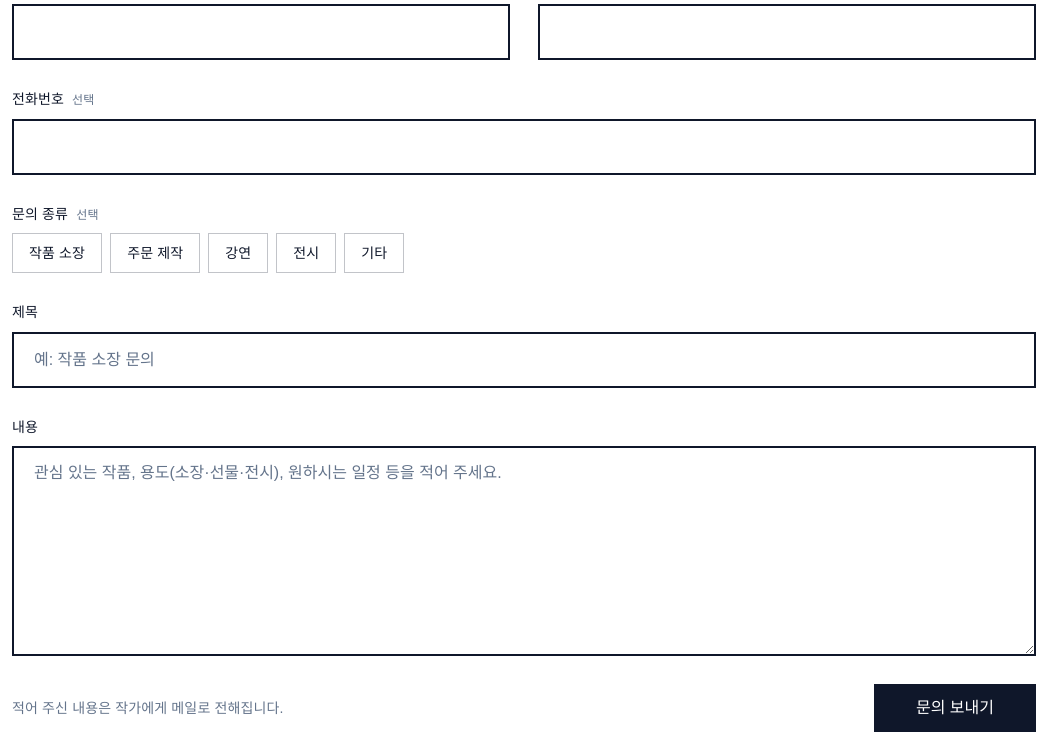
Test: ContactForm › 문의 종류를 고르면 제목 앞에 붙여 보낸다
This screenshot has width=1048, height=742.
Type "홍길동" into the field labelled "이름" at point(261, 32), box [12,4,510,60]
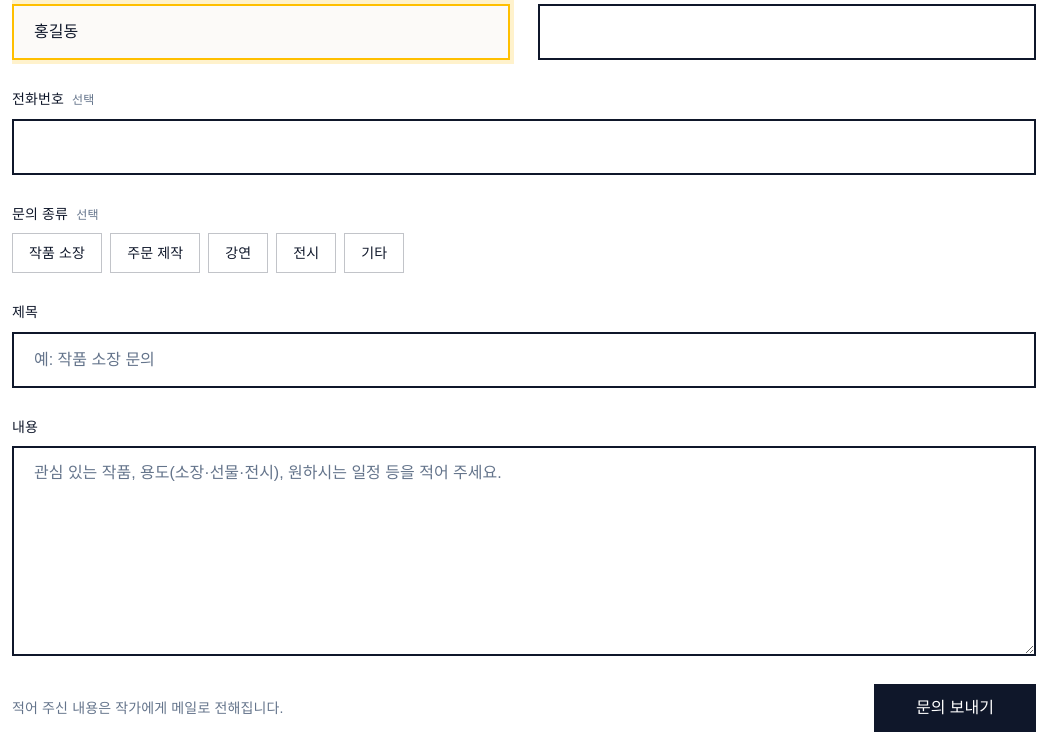
Type "v@example.com" into the field labelled "이메일 · 회신받으실 주소" at point(787, 32), box [538,4,1036,60]
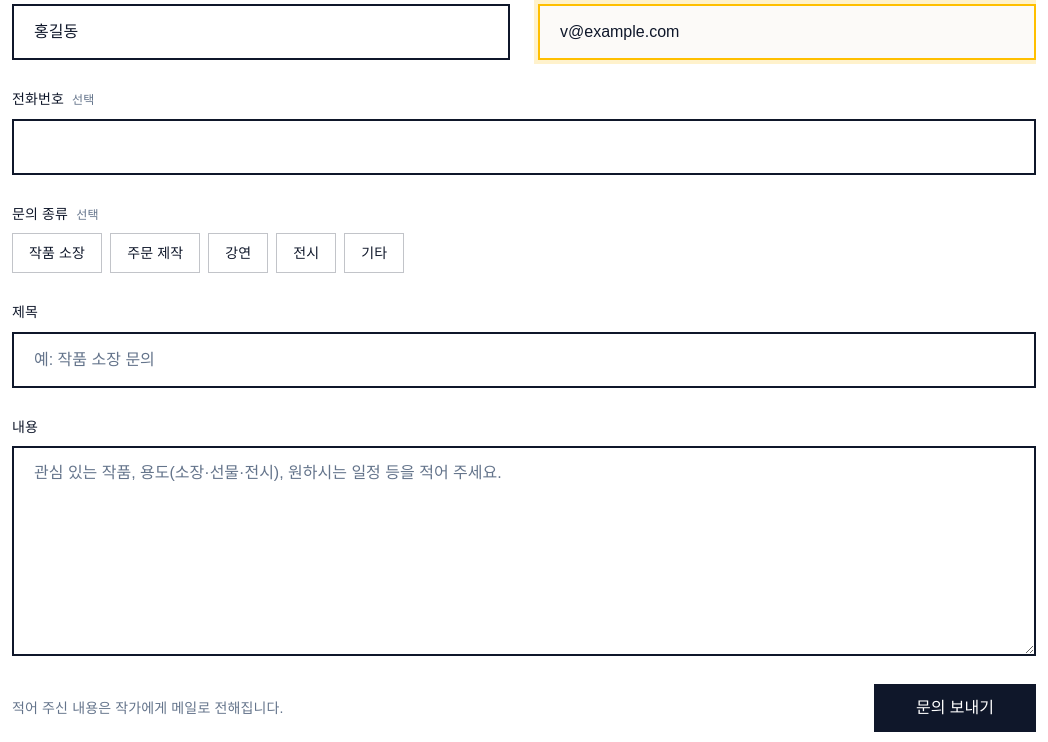
Type "작품 문의" into the field labelled "제목" at point(524, 360), box [12,332,1036,388]
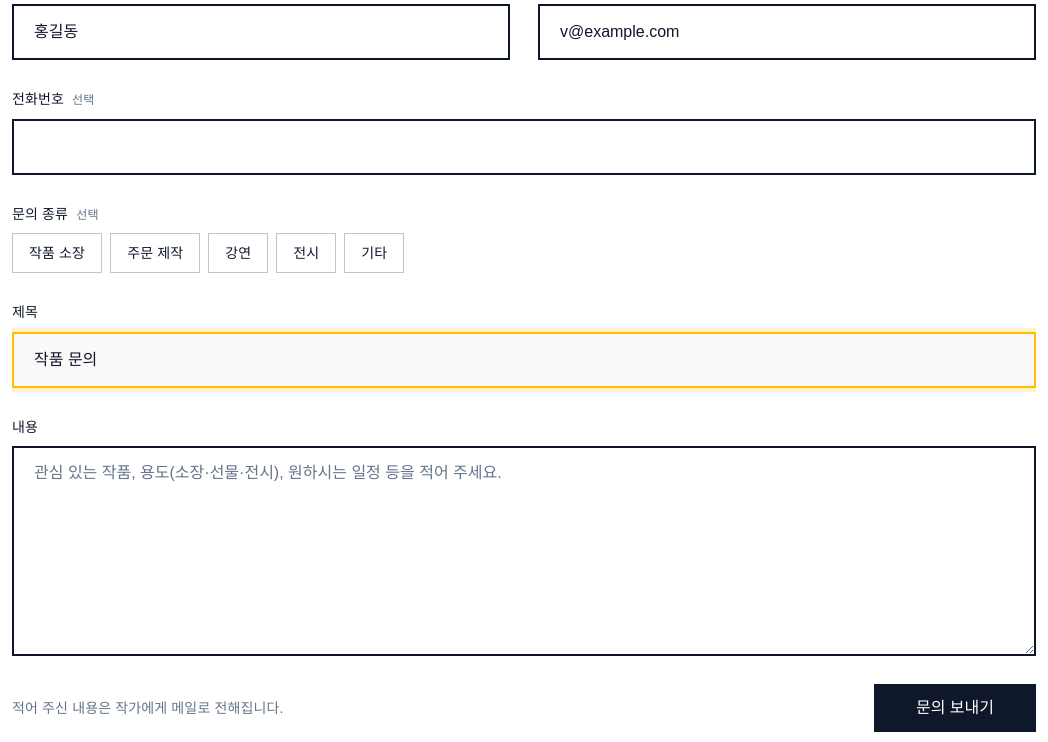
Type "소장 문의드립니다." into the text box labelled "내용" at point(524, 551), box [12,446,1036,656]
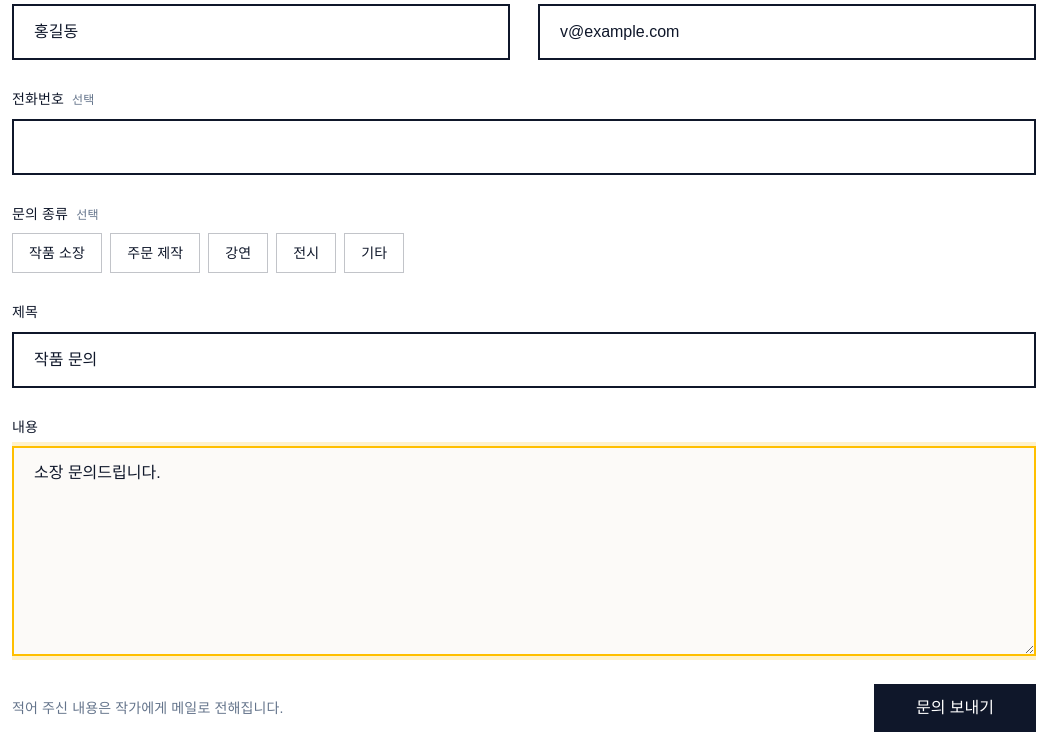
Click the radio button labelled "주문 제작" at point(155, 253), box [110,233,200,273]
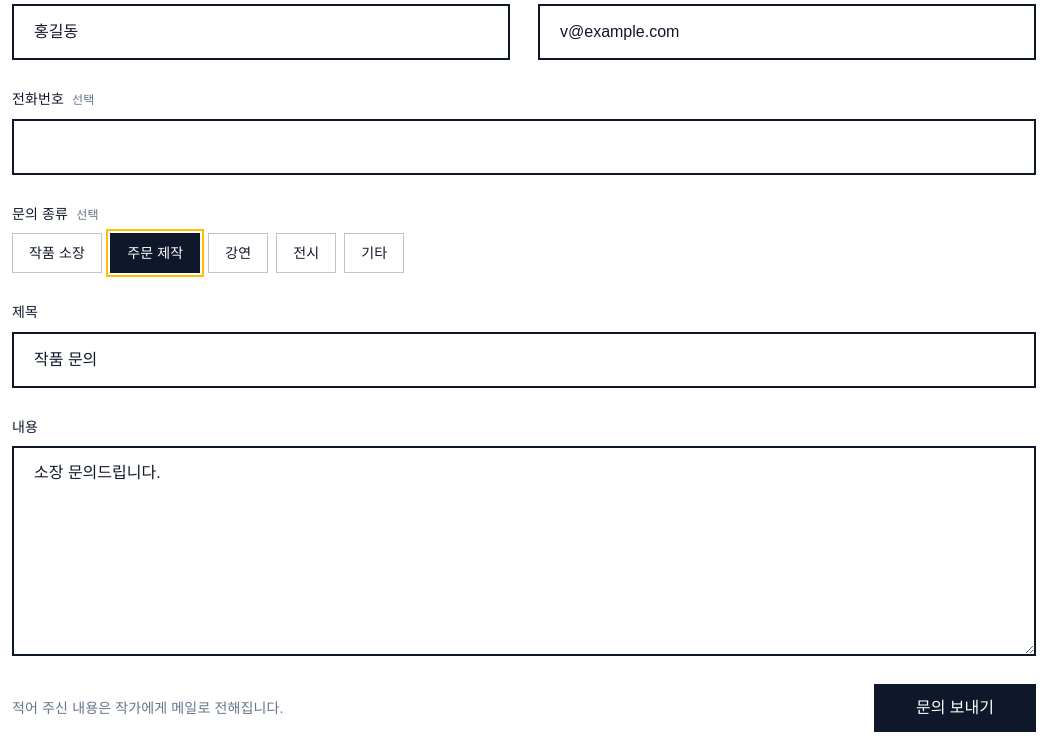
Click the button "문의 보내기" at point(955, 708), box [874,684,1036,732]
(page scrolled)
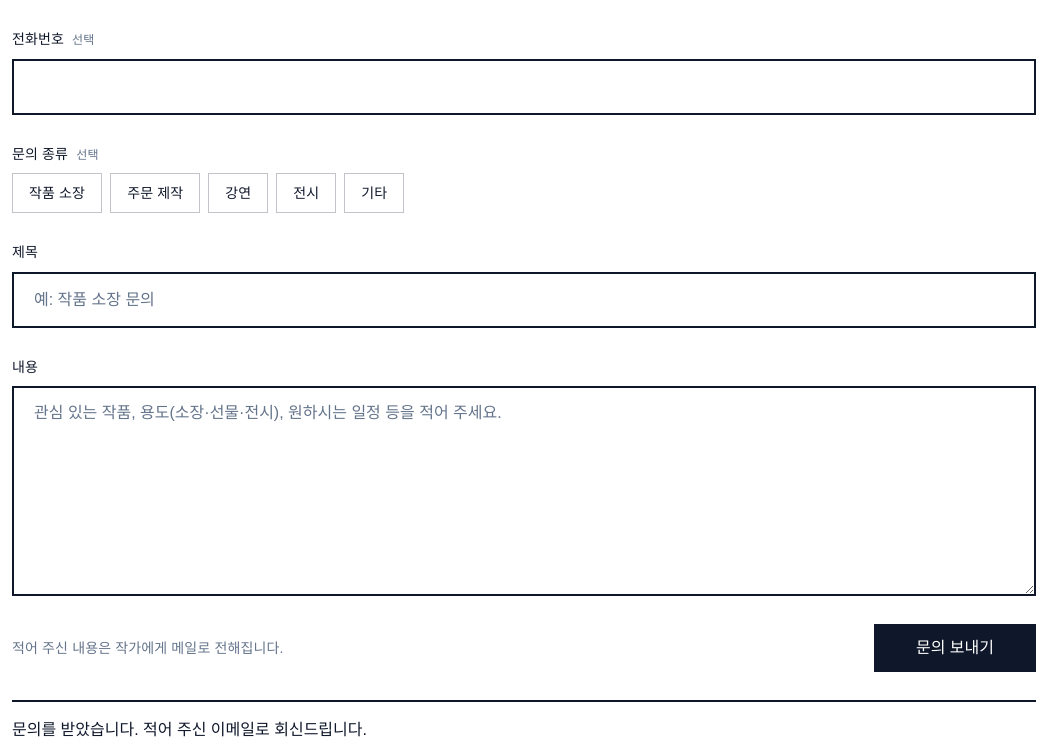
Now the text "문의를 받았습니다. 적어 주신 이메일로 회신드립니다." is shown, box [12,700,1036,741]
